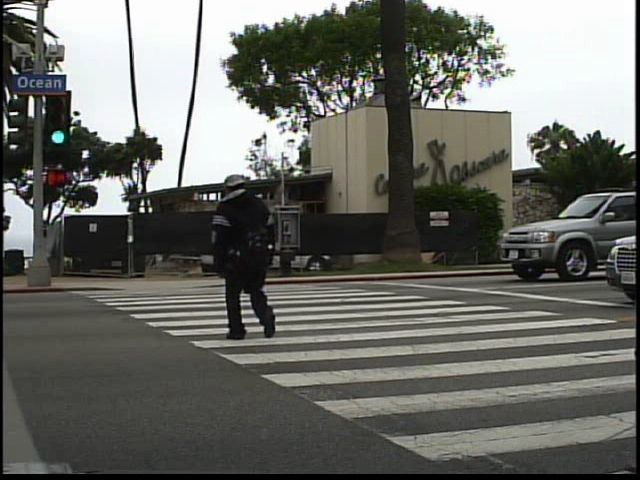person: (202, 163, 293, 355)
